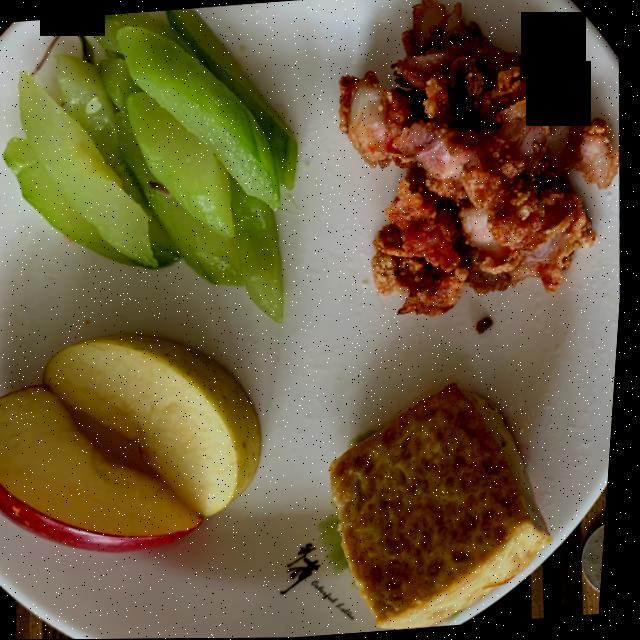apple -sliced-: (0, 333, 266, 551)
coin: (589, 523, 612, 592)
red grilled pork: (340, 0, 621, 316)
